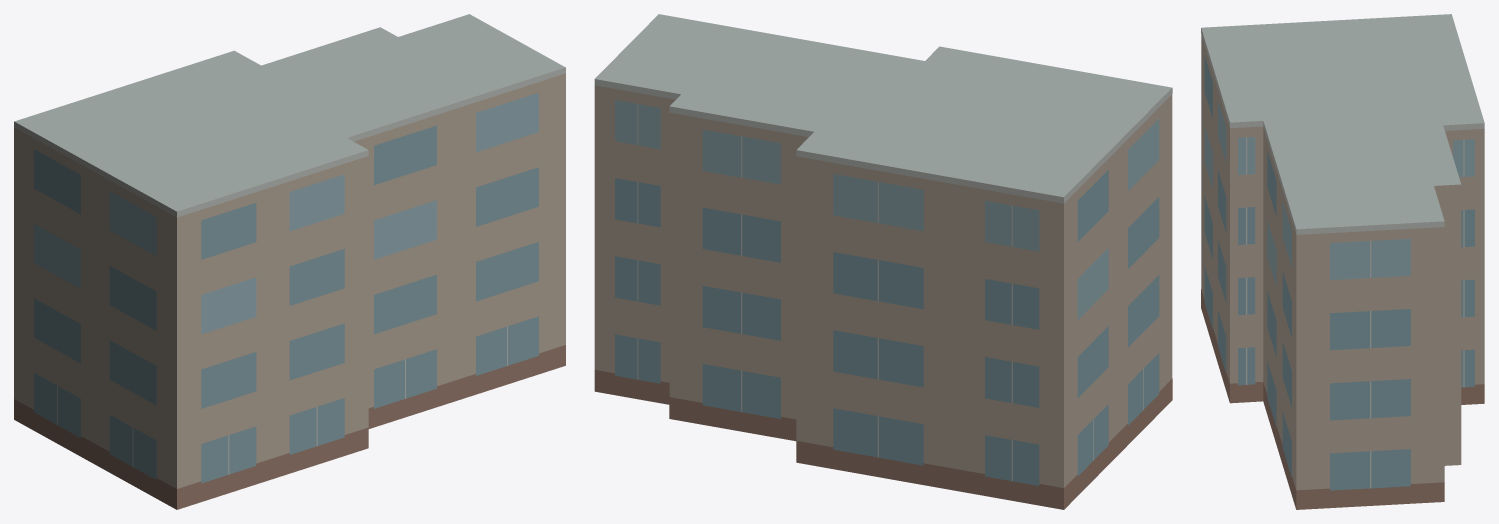
Rendered from residential-ac0f9986-89f9-445c-aab9-a9ed496c5bce.glb.
The picture shows the model from 3 angles, left to right: view 1: azimuth 30°, elevation 25°; view 2: azimuth 150°, elevation 25°; view 3: azimuth 270°, elevation 25°; orthographic projection. The views are drawn at different scales.
Visible parts, largest first — view 1: residential-ac0f9986-89f9-445c-aab9-a9ed496c5bce.tmp; view 2: residential-ac0f9986-89f9-445c-aab9-a9ed496c5bce.tmp; view 3: residential-ac0f9986-89f9-445c-aab9-a9ed496c5bce.tmp.
Boxes of the visible parts, x1,y1,x2,y2 form: residential-ac0f9986-89f9-445c-aab9-a9ed496c5bce.tmp: (14,14,565,509); residential-ac0f9986-89f9-445c-aab9-a9ed496c5bce.tmp: (594,14,1172,509); residential-ac0f9986-89f9-445c-aab9-a9ed496c5bce.tmp: (1201,14,1484,509).
Bounding box in the file's own units: 20.1 × 12.2 × 11.19.
